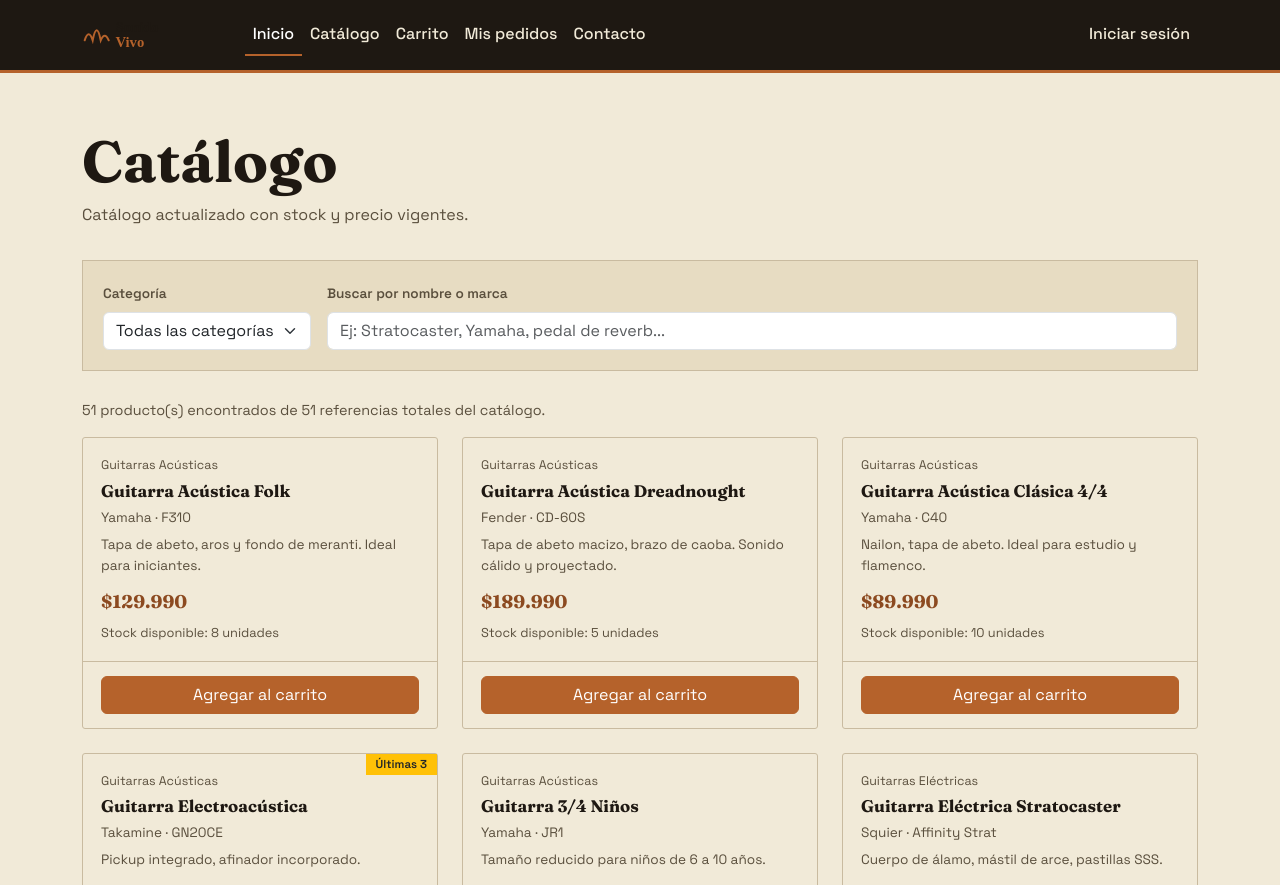
Catalogo › agrega un producto al carrito y lo confirma en el botón
Click the button "Agregar al carrito" below "F310".
click(260, 695)  # box [101,676,419,714]
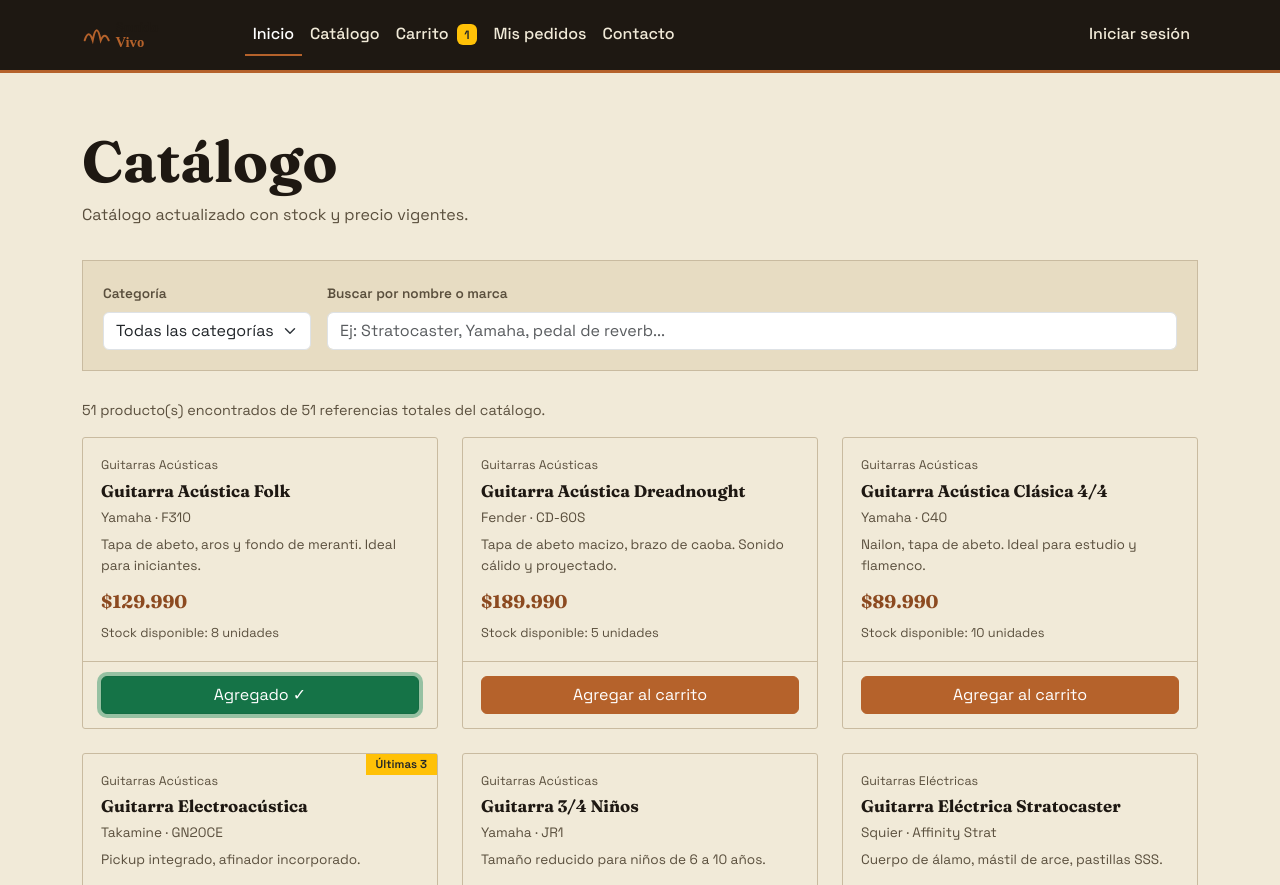
Check: the button "Agregado ✓" is shown, box [101,676,419,714]
